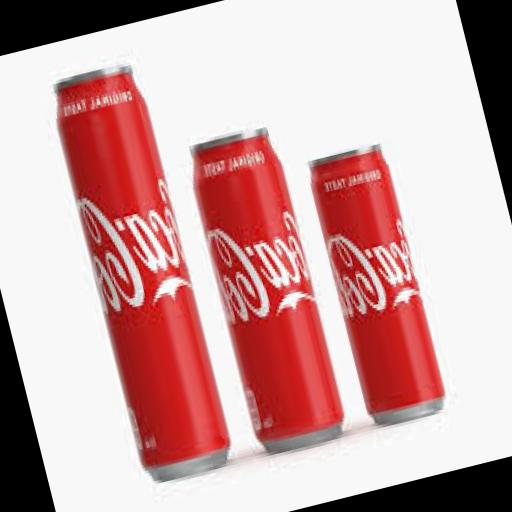Coca: (38, 40, 242, 496), (176, 114, 359, 472), (296, 126, 458, 440)
